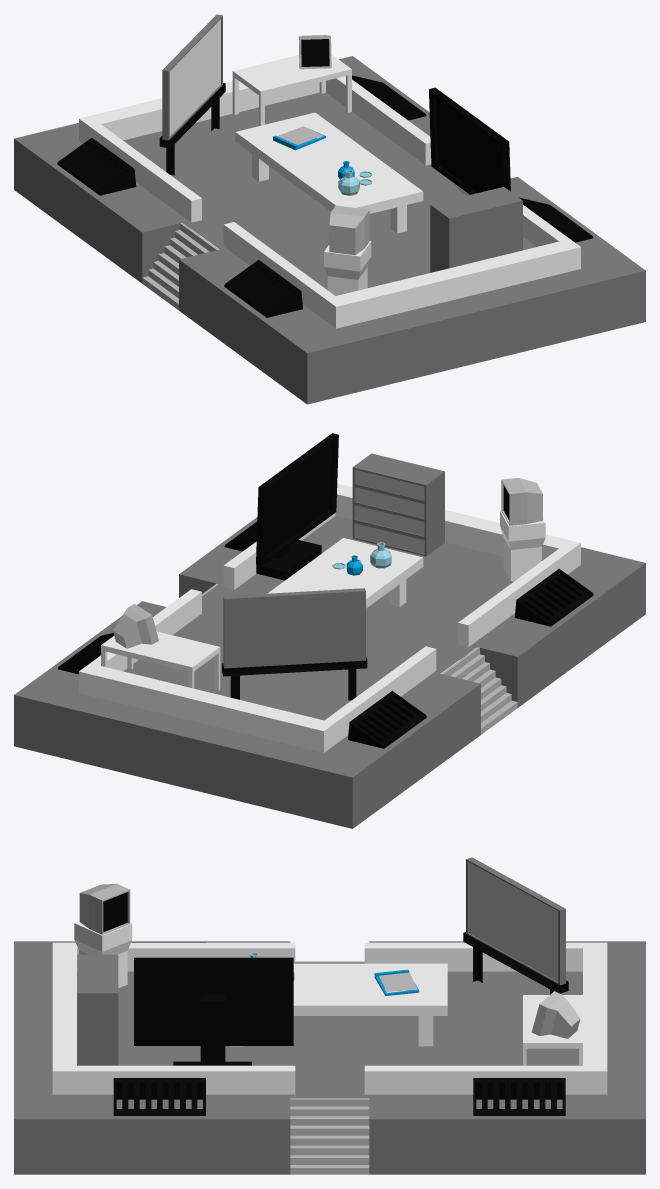
File: Labatory.fbx
3 views of the same model, one above another, from view 1: azimuth 30°, elevation 25°; view 2: azimuth 150°, elevation 25°; view 3: azimuth 270°, elevation 25° (orthographic). The views are drawn at different scales.
Visible parts, largest first — view 1: Labatory; view 2: Labatory; view 3: Labatory.
Boxes of the visible parts, <box> form: Labatory: <box>14,14,645,404</box>; Labatory: <box>14,433,645,828</box>; Labatory: <box>14,857,645,1174</box>.
Size of the model in its own units: 400 by 183 by 600.
